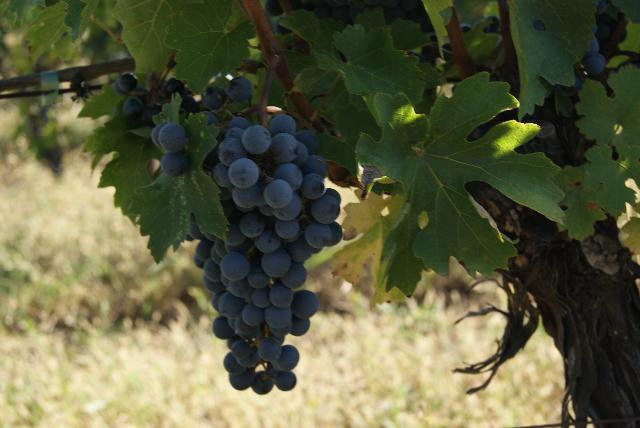grapes: (196, 115, 342, 394)
